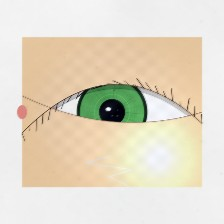foreign_body_visible: (27, 97, 73, 134)
